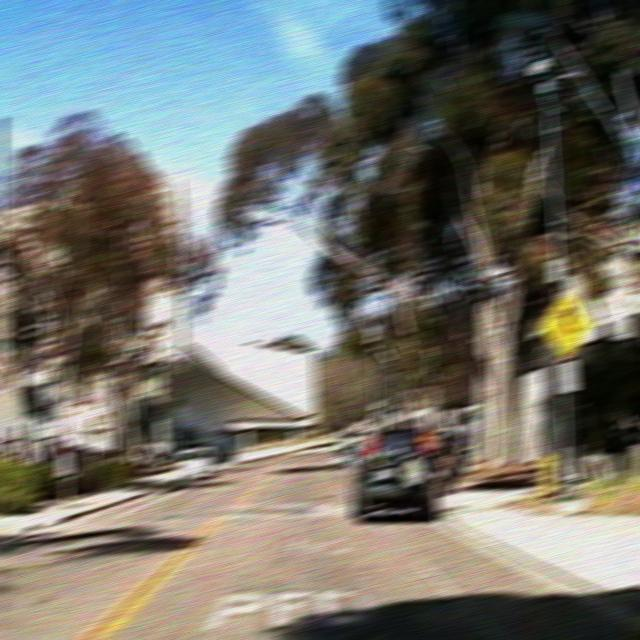pedestrianCrossing: (536, 291, 592, 358)
